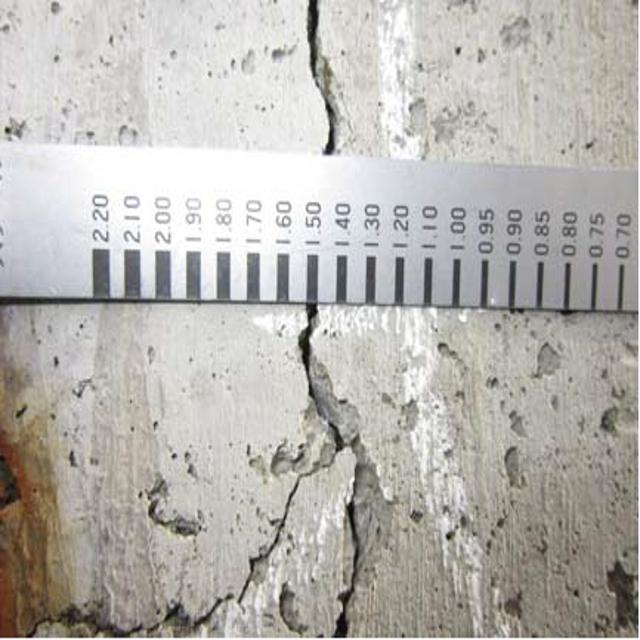crack: (287, 310, 383, 640), (23, 516, 274, 636), (287, 3, 360, 164)
